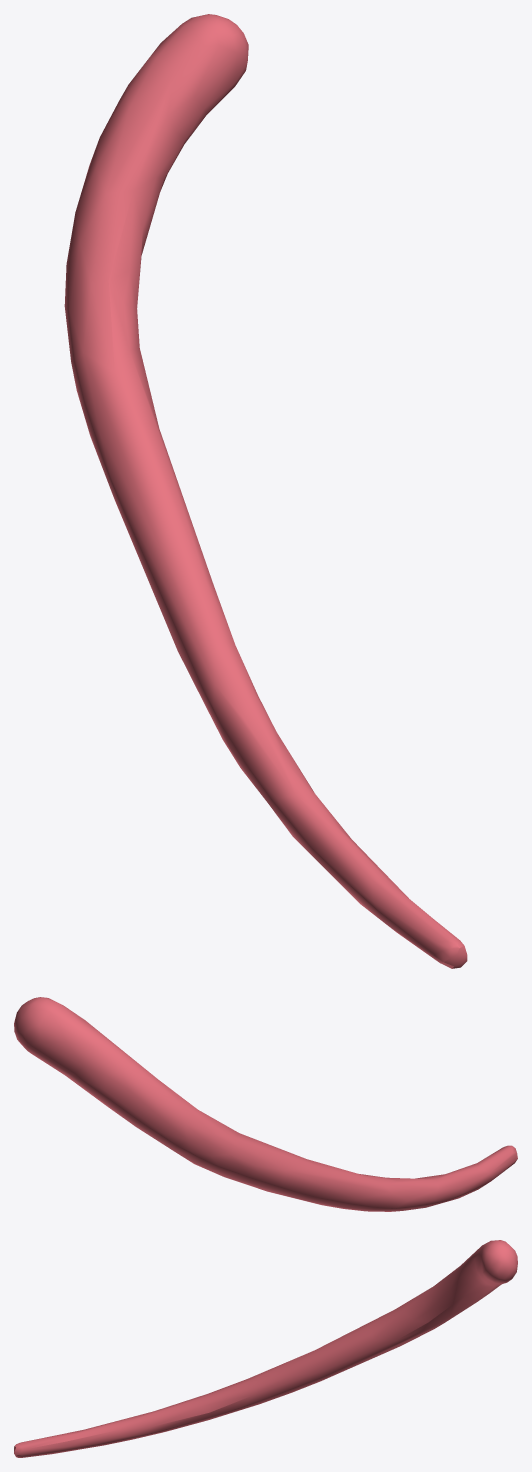
The model's file is fma68982_fj3030.glb.
3 renders of one model, top to bottom at view 1: azimuth 30°, elevation 25°; view 2: azimuth 150°, elevation 25°; view 3: azimuth 270°, elevation 25°, orthographic. The views are drawn at different scales.
Visible parts, largest first — view 1: FMA68982_FJ3030; view 2: FMA68982_FJ3030; view 3: FMA68982_FJ3030.
Boxes of the visible parts, bbox=[...] form: FMA68982_FJ3030: bbox=[64, 14, 467, 968]; FMA68982_FJ3030: bbox=[14, 997, 517, 1211]; FMA68982_FJ3030: bbox=[14, 1240, 517, 1457].
Bounding box in the file's own units: 0.0267 × 0.0453 × 0.0762.
